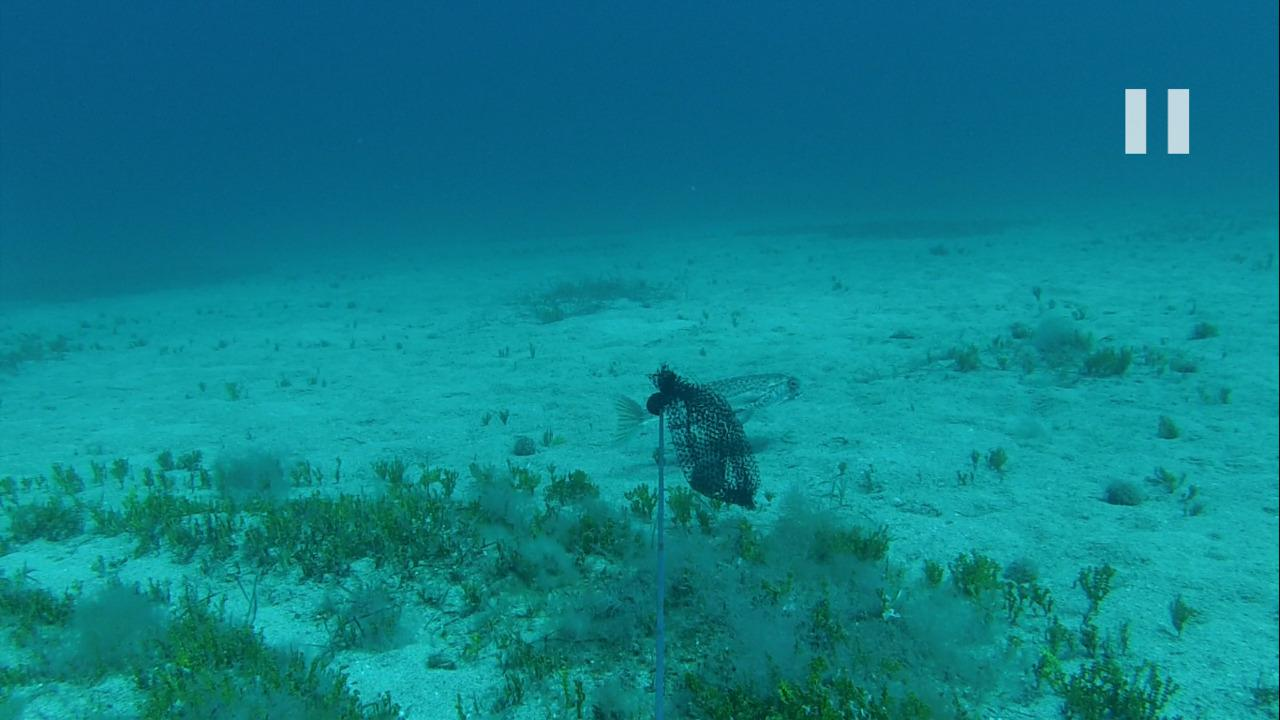dactylopterus: (603, 367, 804, 436)
